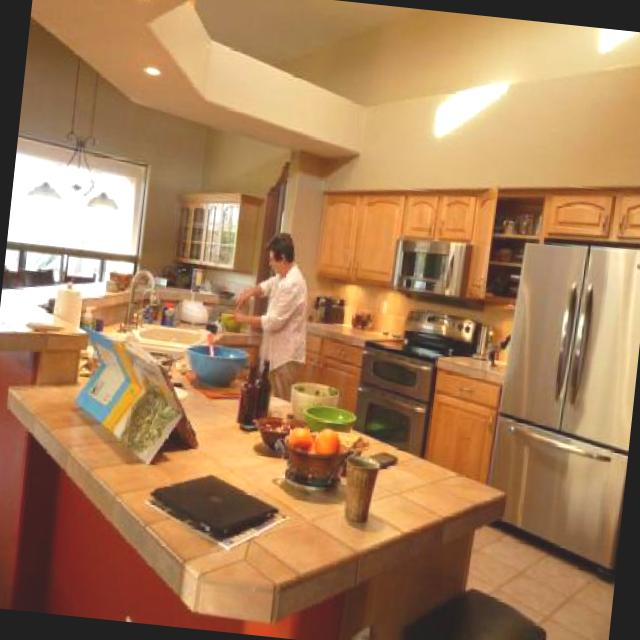Person: (215, 227, 318, 404)
